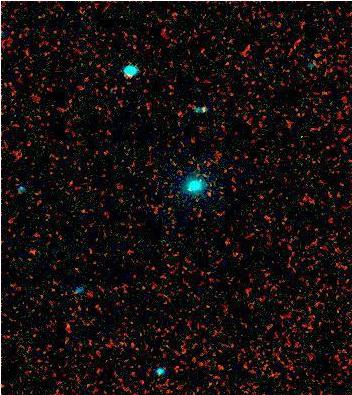star: (193, 179, 223, 209)
